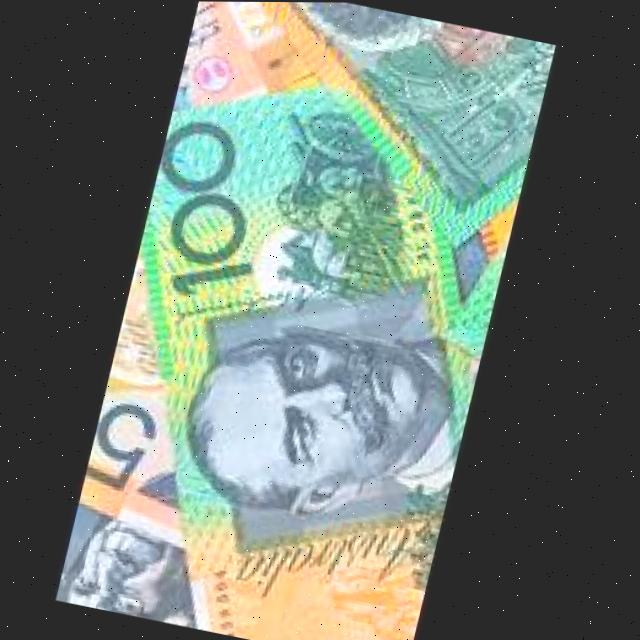banknote: (54, 0, 557, 640)
